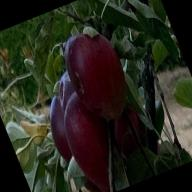Apples: (50, 85, 130, 192), (56, 23, 138, 125), (38, 93, 84, 164), (48, 69, 80, 111)
